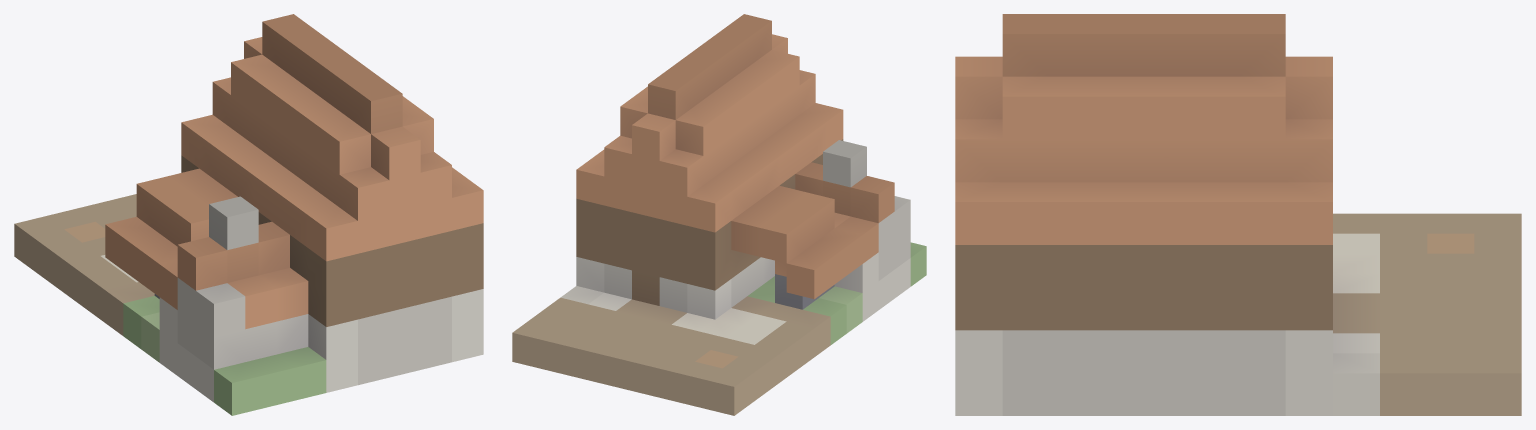
File: paper_mill.lite.glb
The picture shows the model from 3 angles, left to right: view 1: azimuth 30°, elevation 25°; view 2: azimuth 150°, elevation 25°; view 3: azimuth 270°, elevation 25°; orthographic projection. The views are drawn at different scales.
Visible parts, largest first — view 1: paper_mill; view 2: paper_mill; view 3: paper_mill.
Boxes of the visible parts, x1=… form: paper_mill: x1=14, y1=14, x2=483, y2=415; paper_mill: x1=512, y1=14, x2=926, y2=415; paper_mill: x1=955, y1=14, x2=1521, y2=415.
Bounding box in the file's own units: 4 × 4 × 6.
